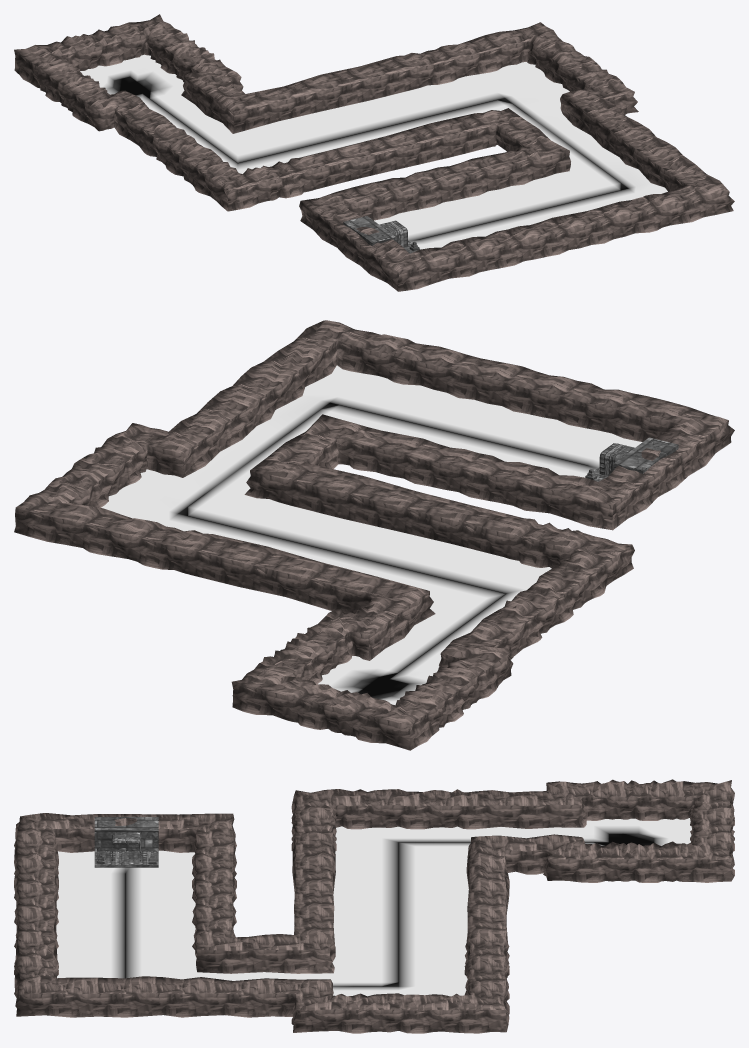
Rendered from Envi1.fbx.
The picture shows the model from 3 angles, top to bottom: view 1: azimuth 30°, elevation 25°; view 2: azimuth 150°, elevation 25°; view 3: azimuth 270°, elevation 25°; orthographic projection. The views are drawn at different scales.
Parts seen in each view (by area): view 1: EnviPlane1.001, EnviPlane1, TempleEntrance; view 2: EnviPlane1.001, EnviPlane1, TempleEntrance; view 3: EnviPlane1.001, EnviPlane1, TempleEntrance.
Boxes of the visible parts, box(x1,y1,x2,y2) form: EnviPlane1.001: box(14, 14, 734, 291); EnviPlane1: box(80, 54, 667, 249); TempleEntrance: box(343, 216, 420, 253); EnviPlane1.001: box(14, 320, 734, 750); EnviPlane1: box(101, 365, 642, 705); TempleEntrance: box(585, 437, 678, 481); EnviPlane1.001: box(14, 779, 734, 1033); EnviPlane1: box(56, 818, 691, 996); TempleEntrance: box(94, 817, 158, 867).
Bounding box in the file's own units: 194 × 10.09 × 256.
